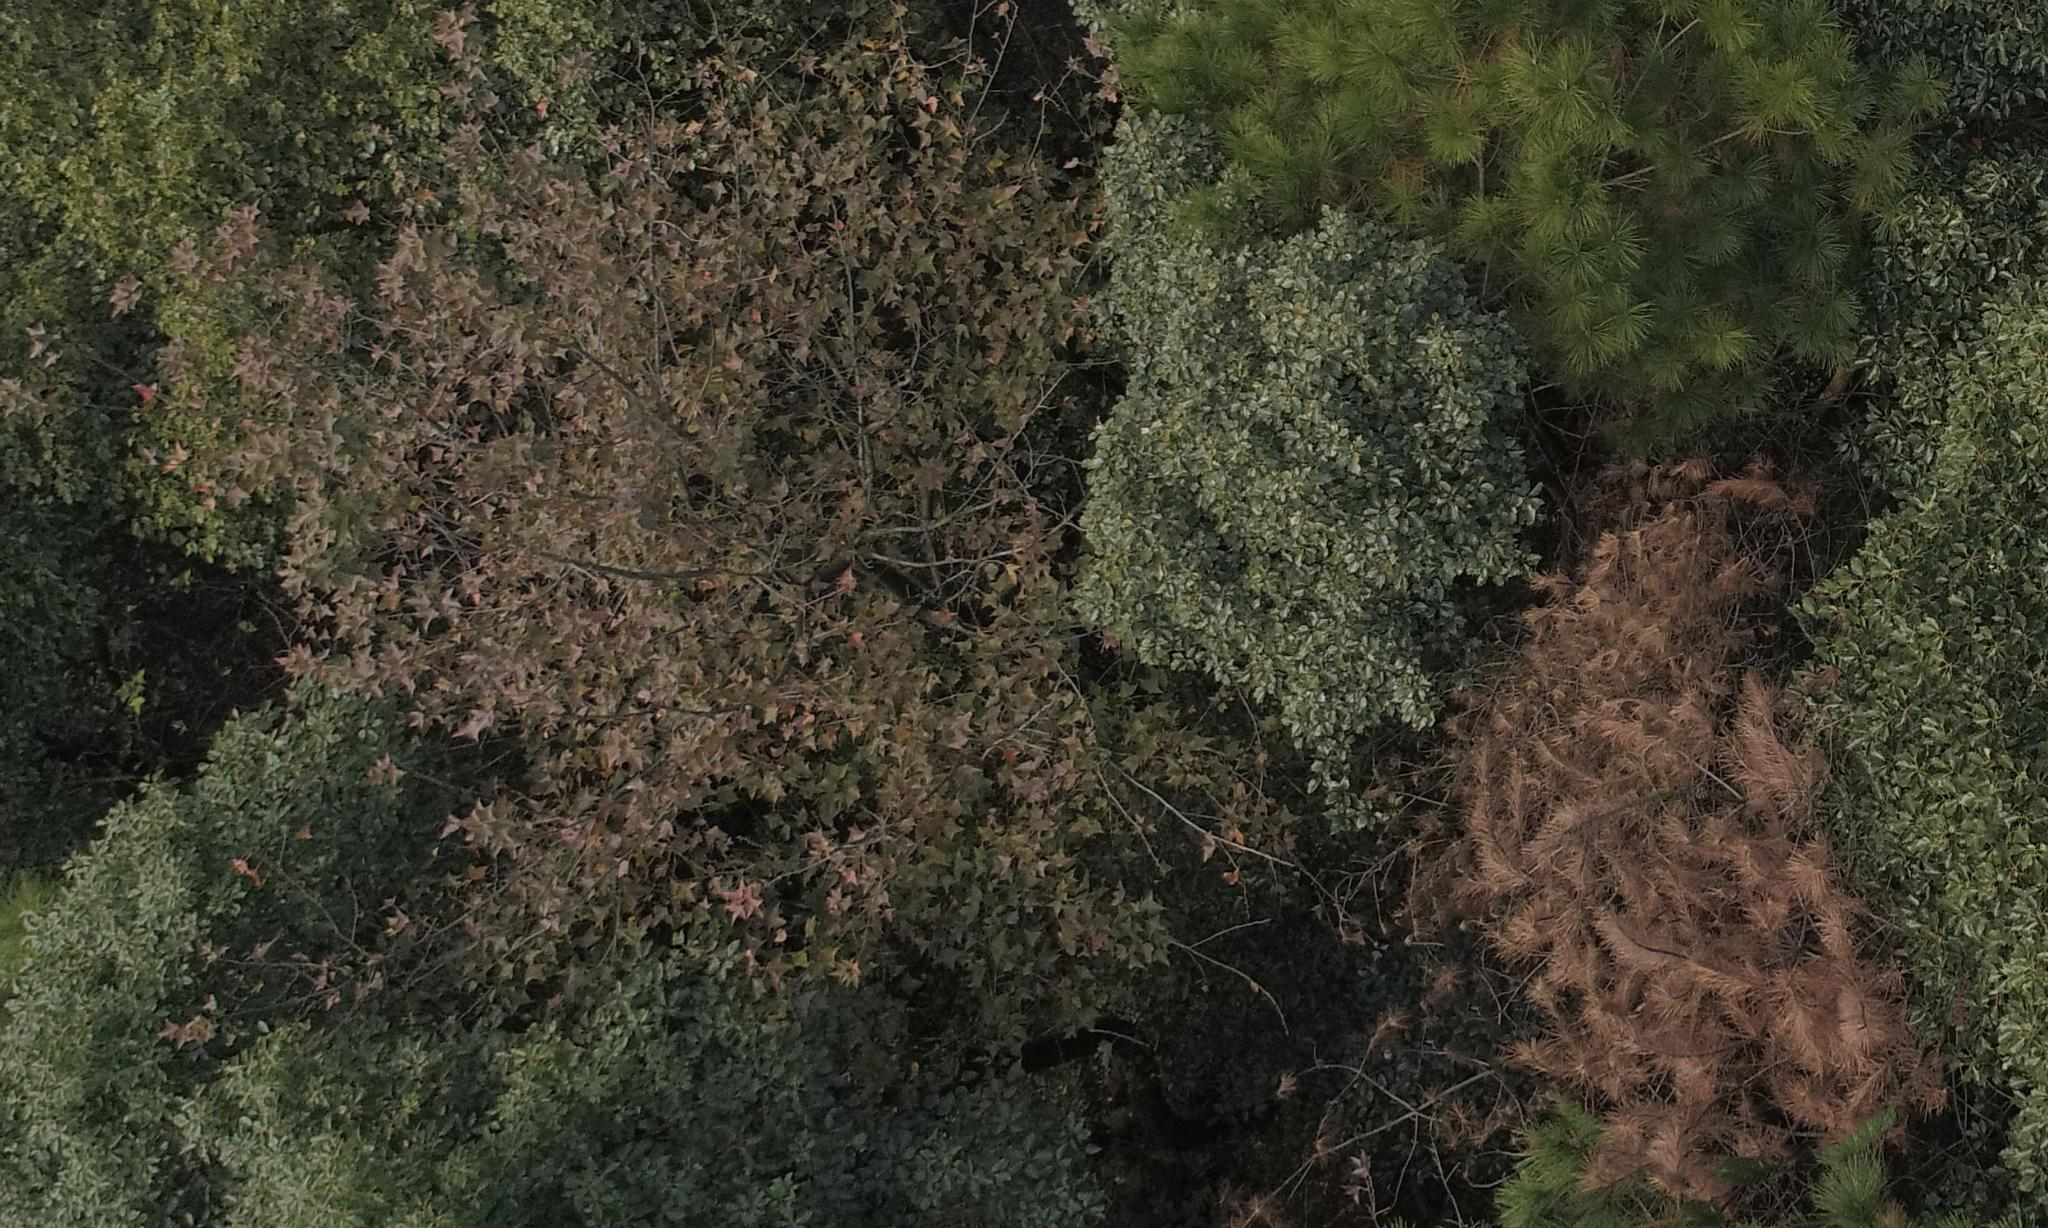heavy: (1380, 443, 1937, 1199)
